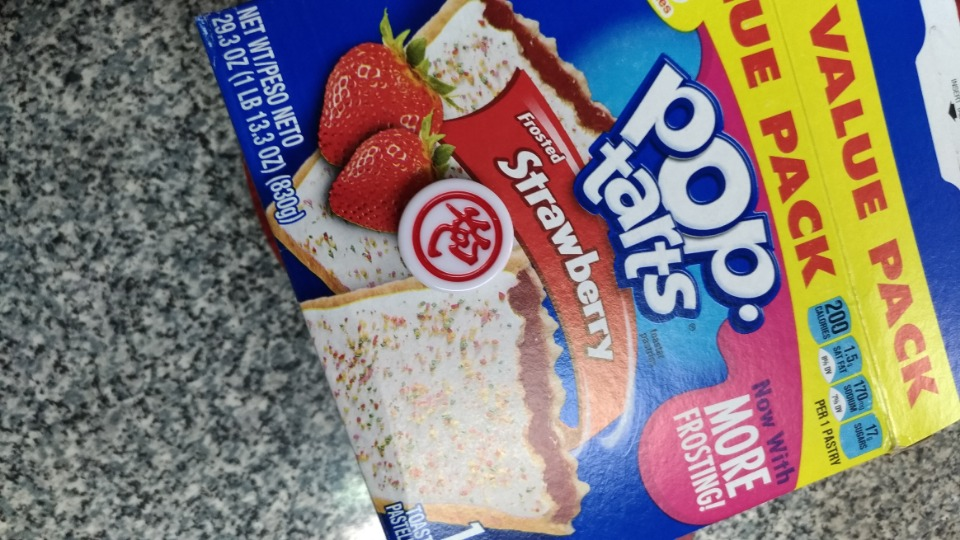r-cannon: (379, 168, 527, 315)
